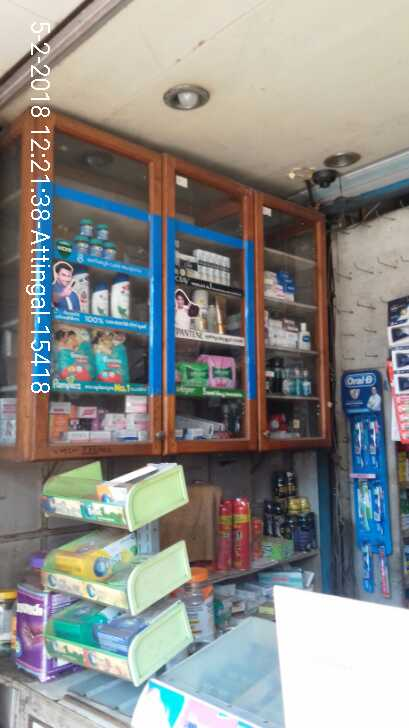oralcare: (343, 373, 393, 614)
vicks: (73, 214, 125, 264)
